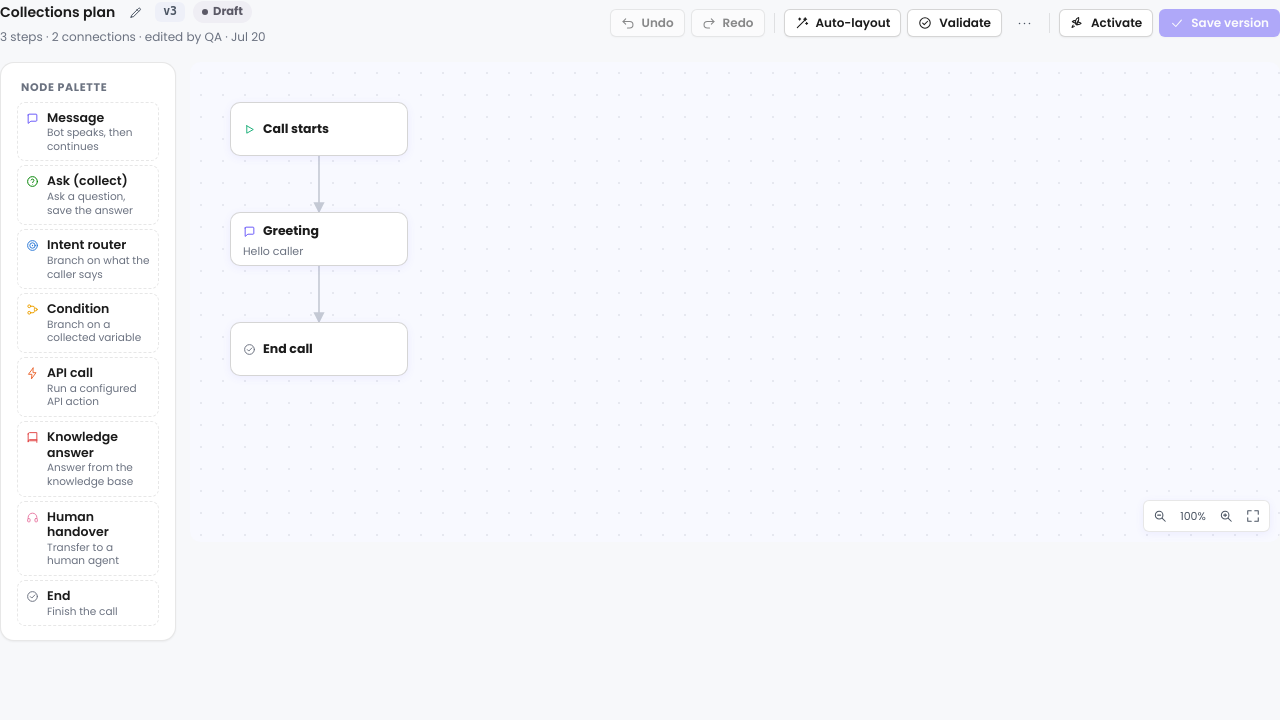
Test case: WorkflowsTab — editing › undo restores the previous graph
Click the text "Greeting": (291,230) x1=263 y1=222 x2=319 y2=239
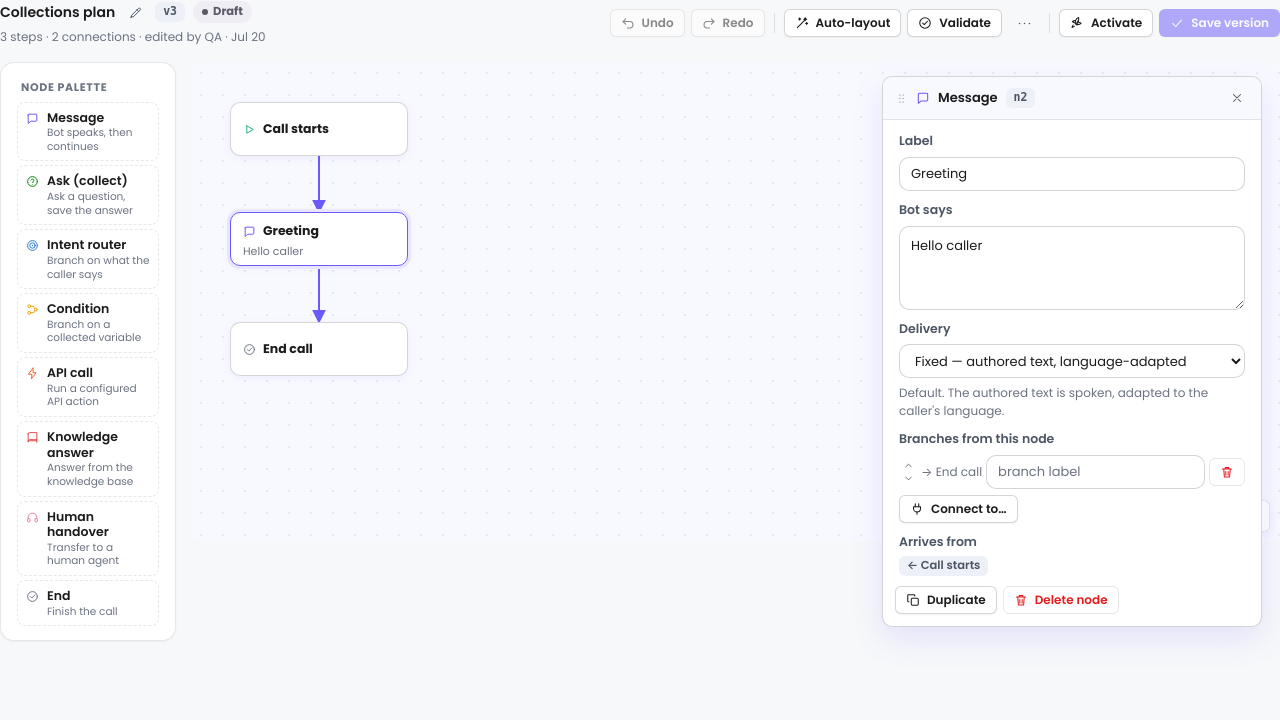
Click the button "Delete node": (1061,600) x1=1003 y1=586 x2=1119 y2=614
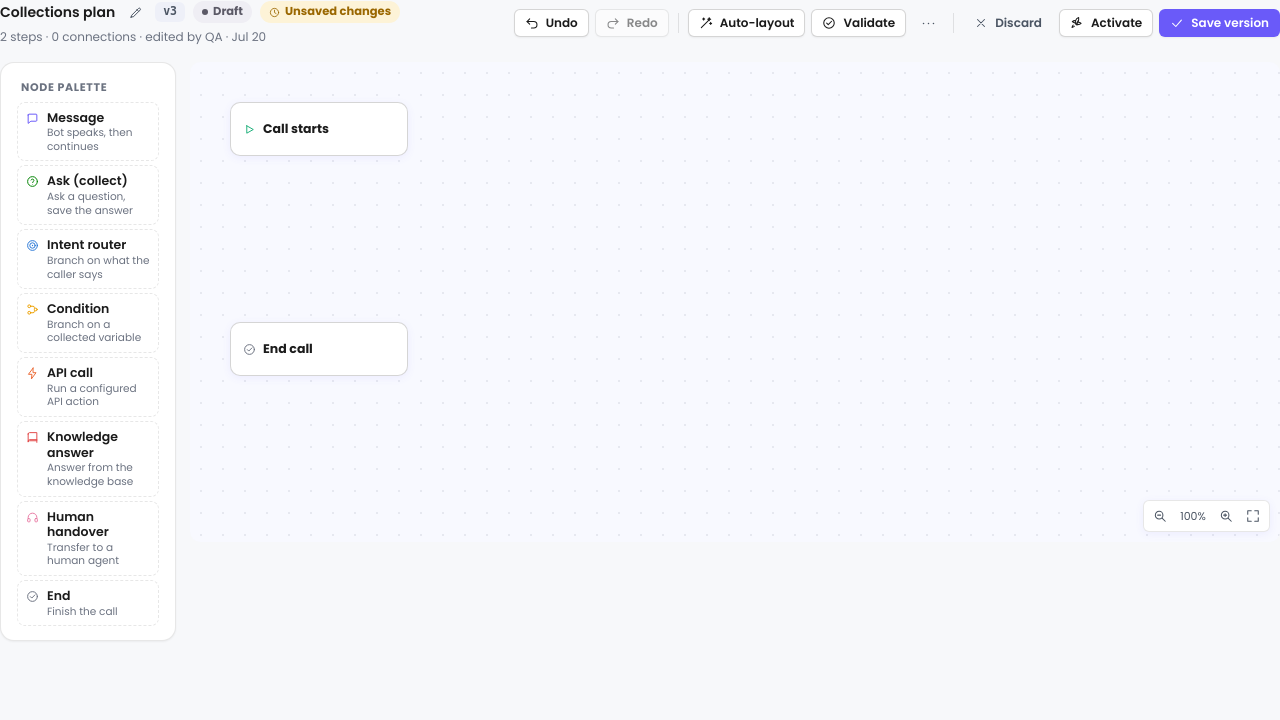
Expected: the button "Greeting" is gone
Click the button "Undo": (551,23) x1=514 y1=9 x2=589 y2=37
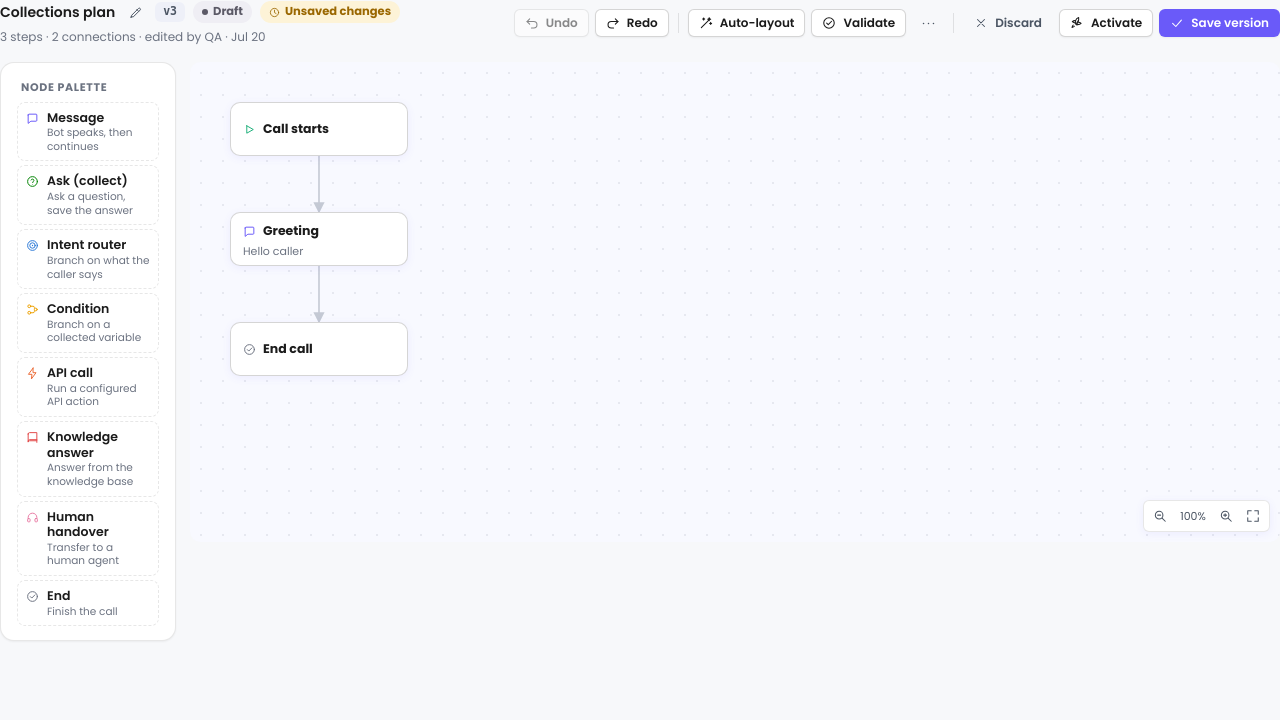
Expected: the text "Greeting" is shown, x1=263 y1=222 x2=319 y2=239
